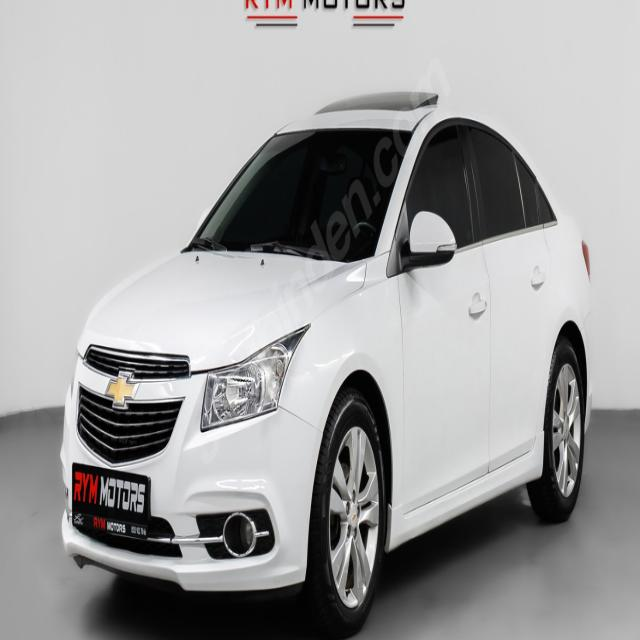chevrolet: (104, 366, 141, 414)
